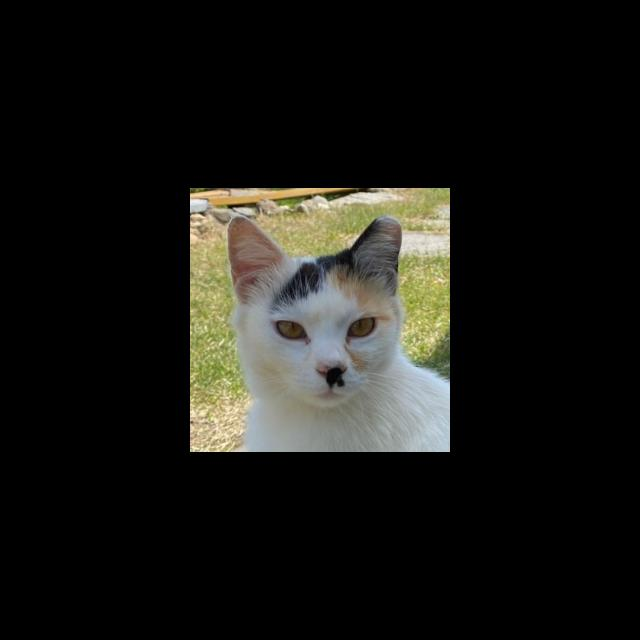animals: (349, 208, 403, 290)
